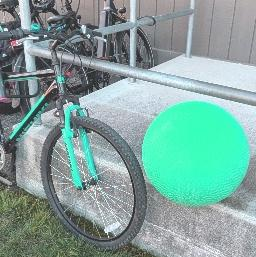algae: (139, 97, 249, 203)
